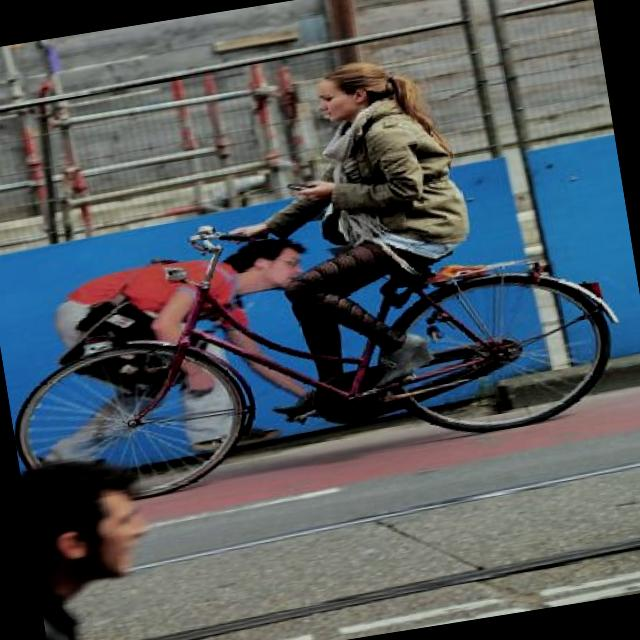Person: (202, 47, 494, 420), (38, 233, 328, 432), (19, 444, 173, 640), (158, 310, 294, 460)
